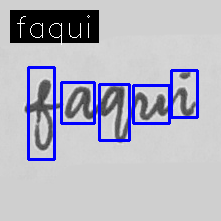a: (61, 83, 92, 120)
f: (29, 77, 58, 152)
i: (175, 68, 195, 119)
q: (98, 82, 127, 144)
u: (135, 89, 167, 122)
